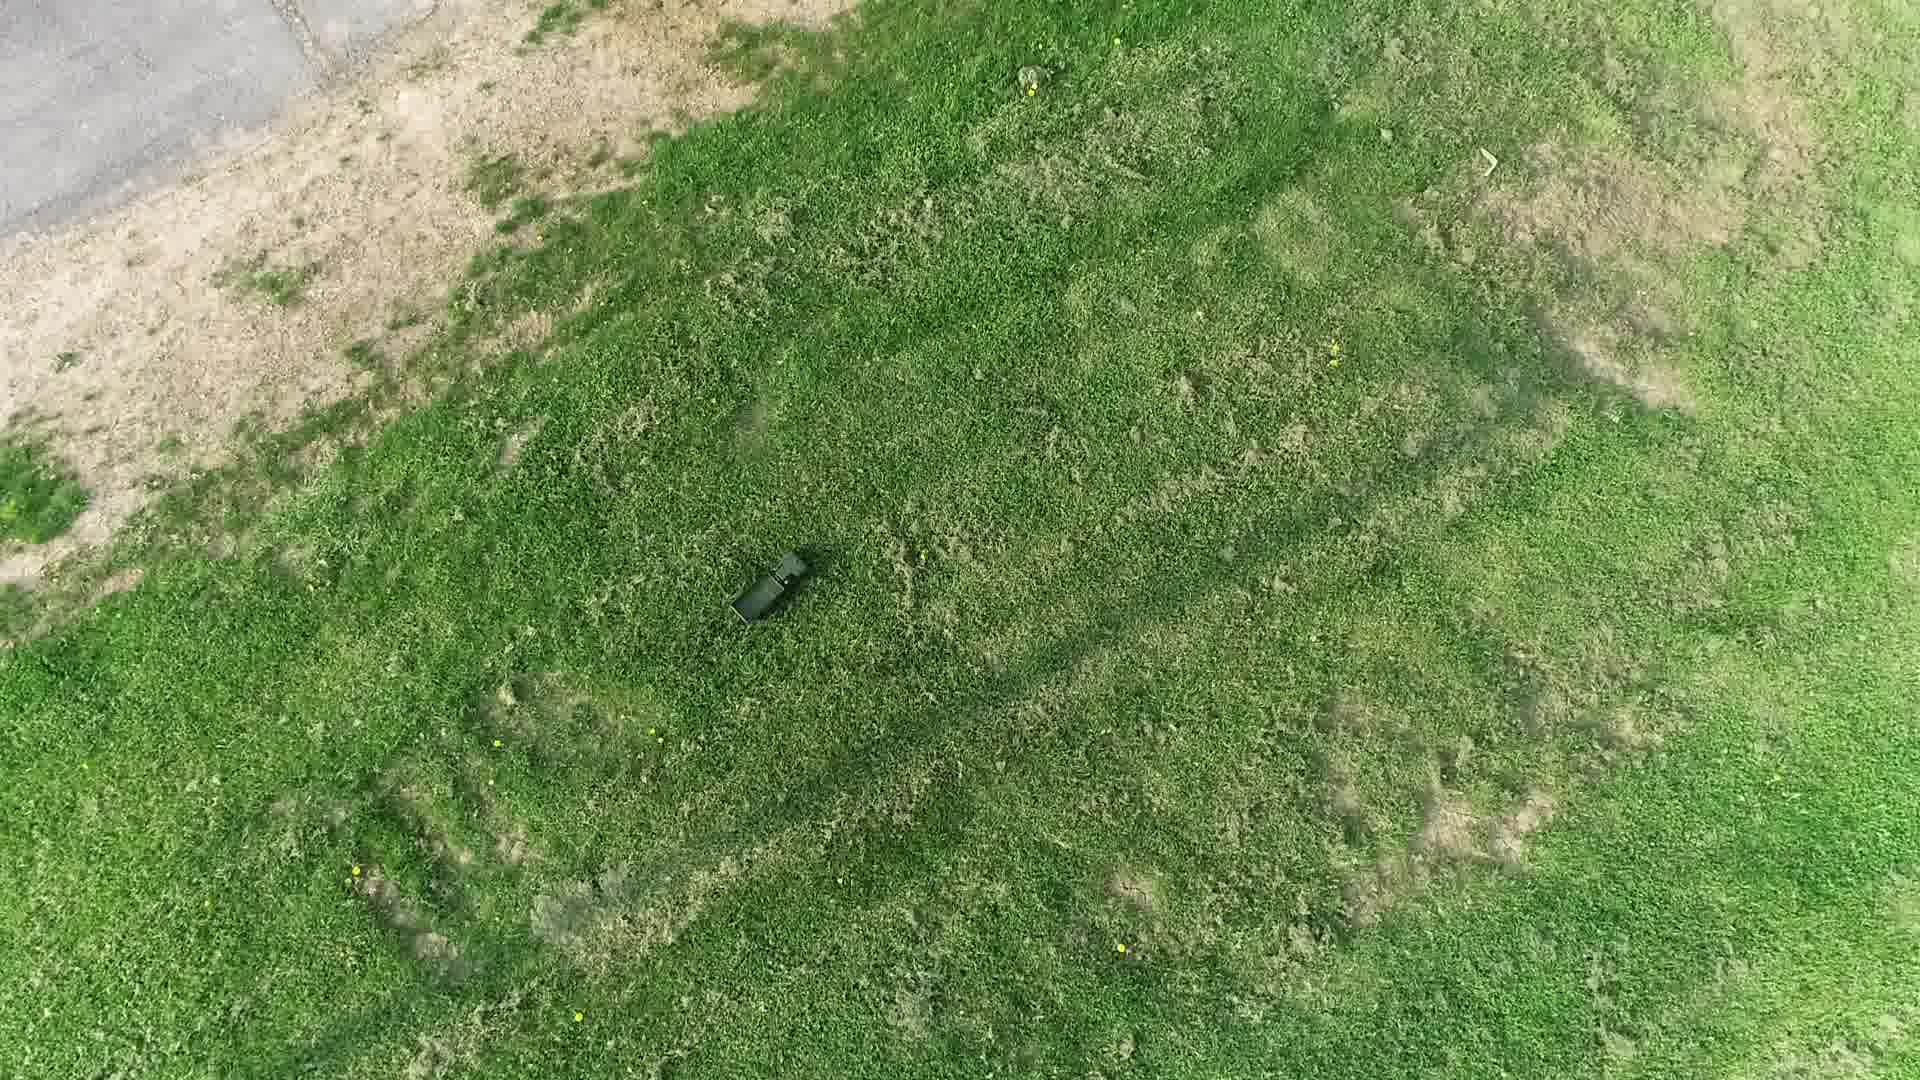transporter9: (727, 545, 814, 629)
